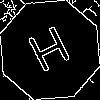H: (25, 25, 78, 82)
